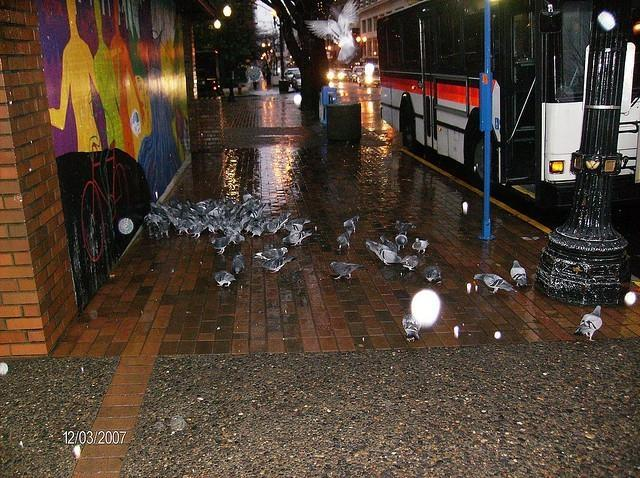bus: (376, 1, 640, 234)
car: (359, 71, 381, 88), (290, 72, 302, 90), (352, 66, 364, 82), (340, 70, 352, 82), (330, 73, 344, 80)
